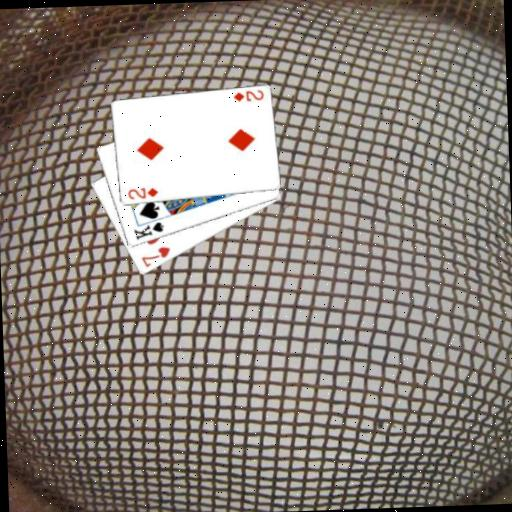2D: (230, 86, 266, 103), (124, 184, 159, 201)
7H: (137, 243, 172, 269)
KS: (130, 219, 166, 242)
